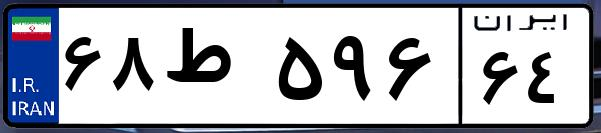4: (525, 38, 570, 115)
5: (270, 28, 330, 110)
6: (385, 28, 445, 110), (57, 26, 110, 100), (475, 38, 525, 113)
8: (110, 28, 158, 98)
9: (330, 28, 385, 110)
ط: (158, 20, 270, 120)
